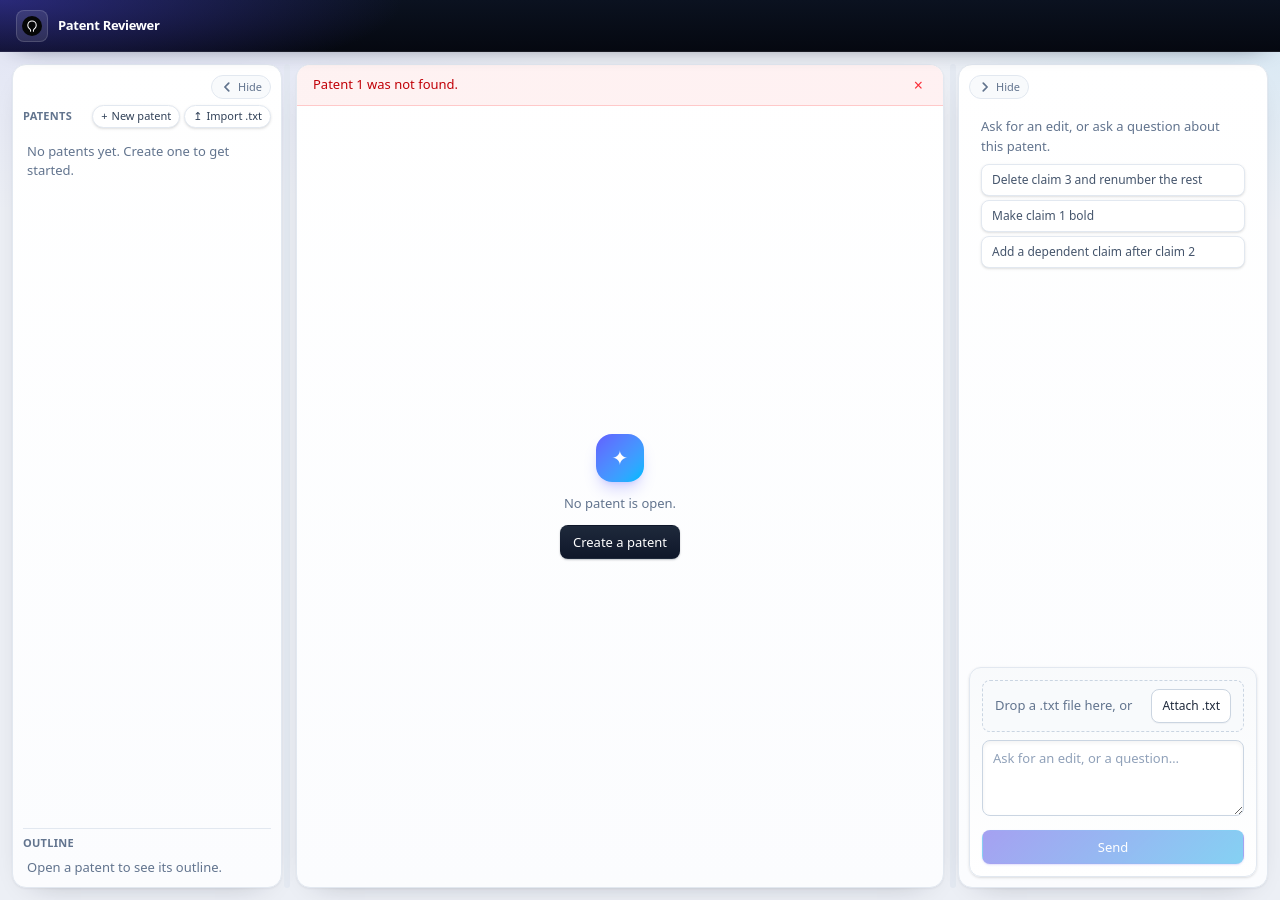
Test: App shell › renders the message from toMessage when the load fails
Expected: the message shows "Patent 1 was not found.", [313,75,458,93]
Note: And it is dismissible, or a transient failure sits on screen forever.
What coordinates should you click on to do the following:
click the button named "Dismiss error"
I would click on:
 (918, 85)
Its box is [906,73,931,97].
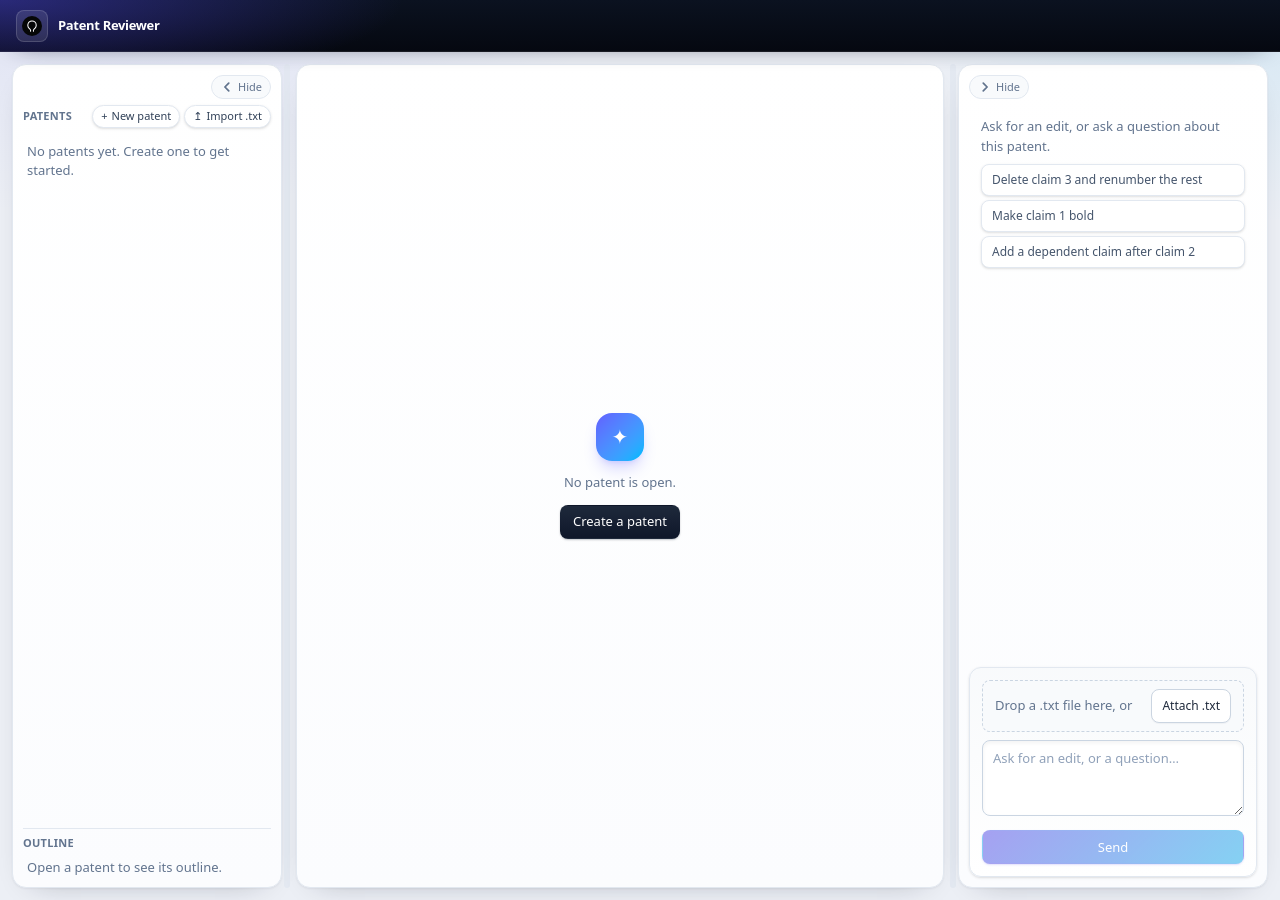
Expected: the message "Patent 1 was not found. ×" is gone
